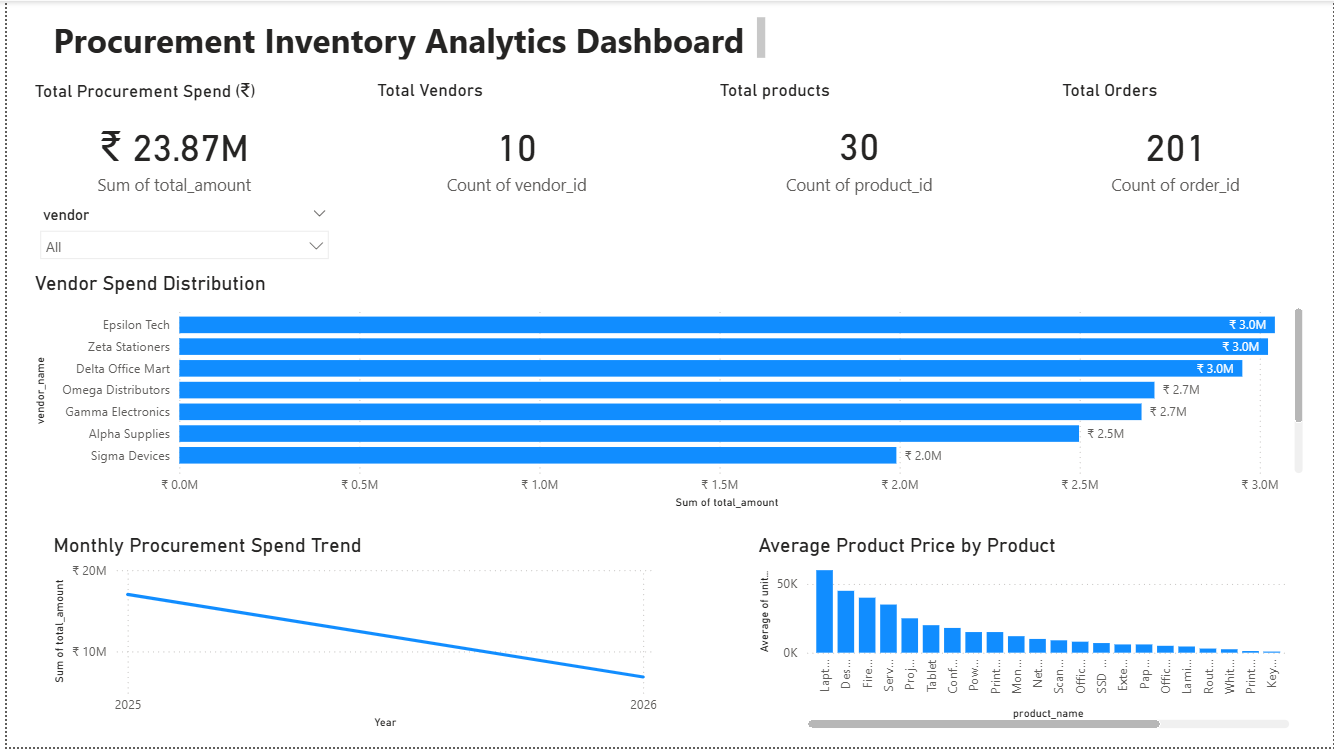

The page's visual inventory and layout, read from the dashboard file:
{"tool":"powerbi","page":{"name":"Page 1","canvas":[1280,720],"ordinal":0},"visuals":[{"type":"card","title":"Total Procurement Spend (₹)","fields":{"Values":["Sum(purchase_orders.total_amount)"]},"box":[21.7,76,279.9,126.7],"z":0},{"type":"card","title":"Total Vendors","fields":{"Values":["Count(vendors.vendor_id)"]},"box":[352.3,76,279.9,126.7],"z":1000},{"type":"card","title":"Total products","fields":{"Values":["Count(products.product_id)"]},"box":[682.8,76,279.9,125.5],"z":2000},{"type":"card","title":"Total Orders","fields":{"Values":["CountNonNull(purchase_orders.order_id)"]},"box":[1013.4,76,229.2,126.7],"z":3000},{"type":"barChart","title":"Vendor Spend Distribution","fields":{"Y":["Sum(purchase_orders.total_amount)"],"Category":["vendors.vendor_name"]},"box":[21.7,261.8,1234.2,232.8],"z":4000},{"type":"lineChart","title":"Monthly Procurement Spend Trend","fields":{"Y":["Sum(purchase_orders.total_amount)"],"Category":["purchase_orders.order_date.Variation.Date Hierarchy.Year","purchase_orders.order_date.Variation.Date Hierarchy.Quarter","purchase_orders.order_date.Variation.Date Hierarchy.Month","purchase_orders.order_date.Variation.Date Hierarchy.Day"]},"box":[39.8,513.9,592.4,193],"z":5000},{"type":"clusteredColumnChart","title":"Average Product Price by Product","fields":{"Category":["products.product_name"],"Y":["Avg(products.unit_price)"]},"box":[720.2,513.9,522.4,193],"z":6000},{"type":"textbox","box":[39.8,10.9,697.3,50.7],"z":7000},{"type":"slicer","fields":{"Values":["vendors.vendor_name"]},"box":[21.7,193,299.2,60.3],"z":7001}]}

Visuals, with their boxes in screenshot pixels (x1, y1, x2, y2), scaled from the page's 1280x720 canvas onto the 1334x751 screenshot:
"Total Procurement Spend (₹)" card: locate(23, 79, 314, 211)
"Total Vendors" card: locate(367, 79, 659, 211)
"Total products" card: locate(712, 79, 1003, 210)
"Total Orders" card: locate(1056, 79, 1295, 211)
"Vendor Spend Distribution" barChart: locate(23, 273, 1309, 516)
"Monthly Procurement Spend Trend" lineChart: locate(41, 536, 659, 737)
"Average Product Price by Product" clusteredColumnChart: locate(751, 536, 1295, 737)
textbox: locate(41, 11, 768, 64)
slicer - vendors.vendor_name: locate(23, 201, 334, 264)
